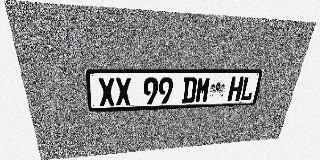9: (158, 77, 174, 104), (143, 77, 158, 105)
D: (181, 77, 197, 103)
H: (227, 77, 244, 101)
L: (239, 77, 256, 101)
M: (195, 77, 211, 103)
X: (98, 78, 116, 106), (115, 78, 131, 106)
